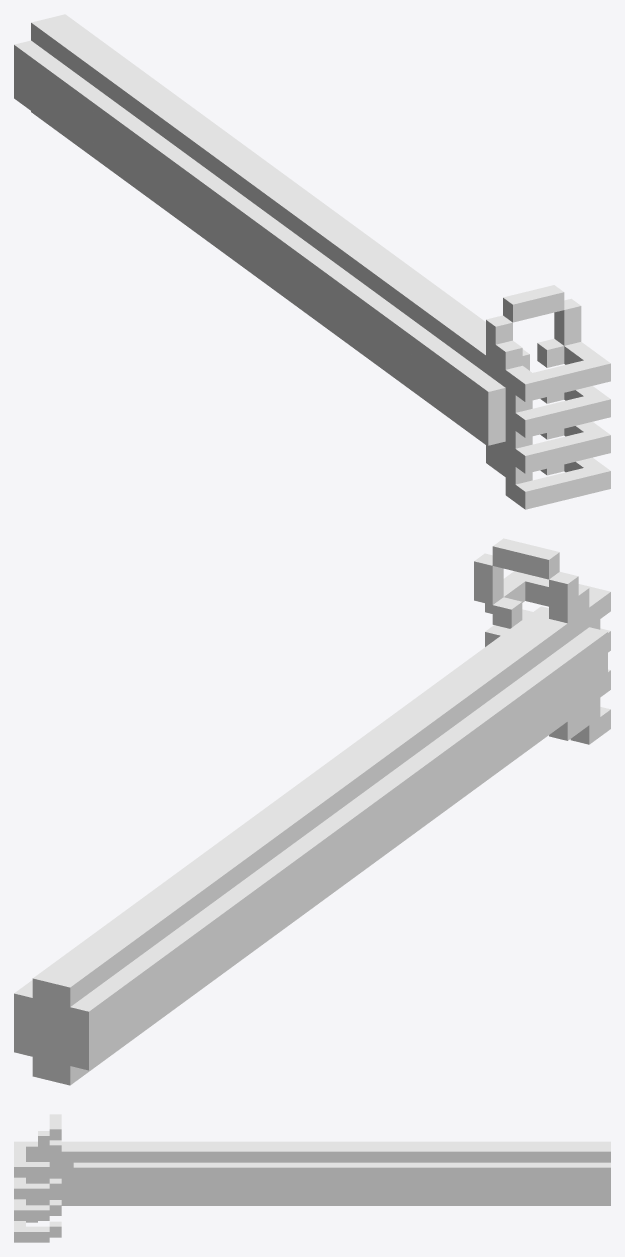
Rendered from skelet-0.obj.
3 renders of one model, top to bottom at view 1: azimuth 30°, elevation 25°; view 2: azimuth 150°, elevation 25°; view 3: azimuth 270°, elevation 25°, orthographic. The views are drawn at different scales.
Bounding box in the file's own units: 0.6 × 1 × 5.
1 material, 1 textured.
